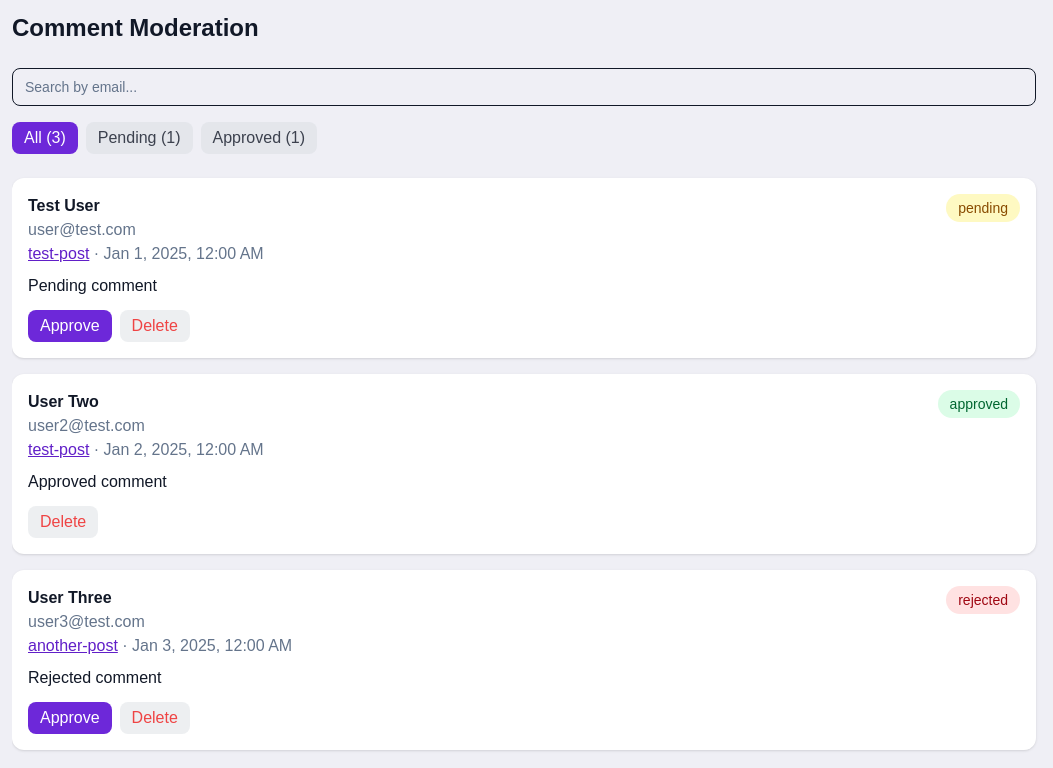
Scenario: ModerationPanel › filters comments by email search input
Type "user2" into the field with placeholder "Search by email...". click: (524, 87)
box: 12,68 -> 1036,106
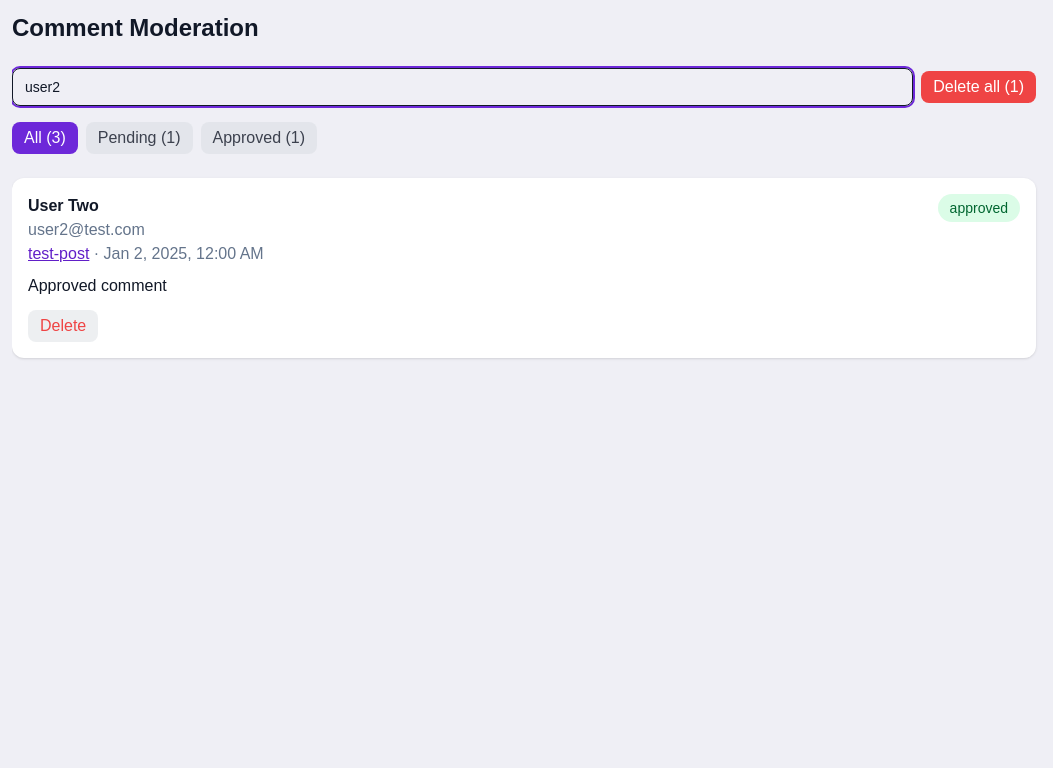
Expected: the text "Approved comment" is shown, 28,277 -> 167,294
Expected: the text "Pending comment" is gone
Expected: the text "Rejected comment" is gone
